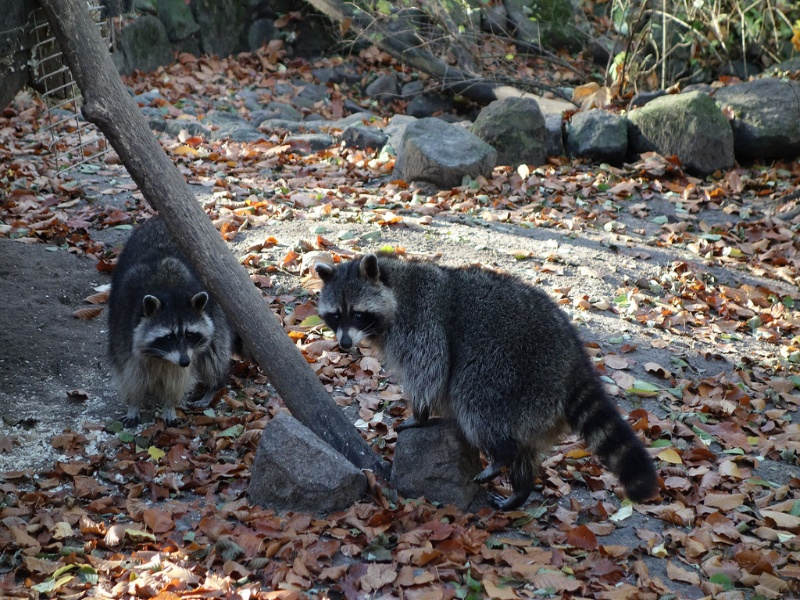raccoon: (315, 258, 669, 516), (107, 214, 266, 426)
